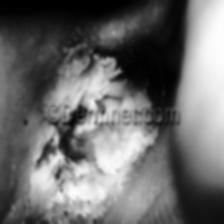Toxin: (29, 140, 141, 206), (57, 43, 149, 107)
